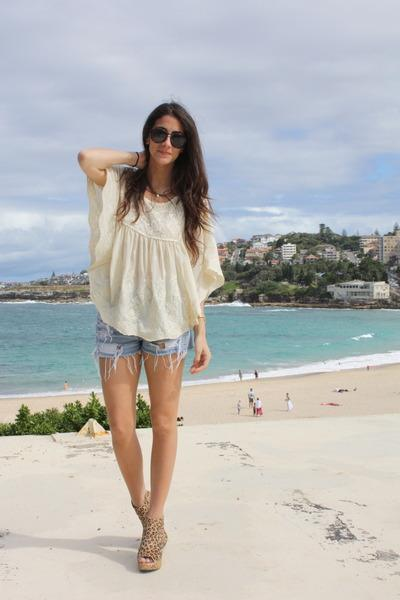shirt: (75, 180, 232, 347)
shoe: (131, 500, 167, 573)
shorts: (93, 326, 192, 368)
sunglass: (143, 118, 168, 155)
